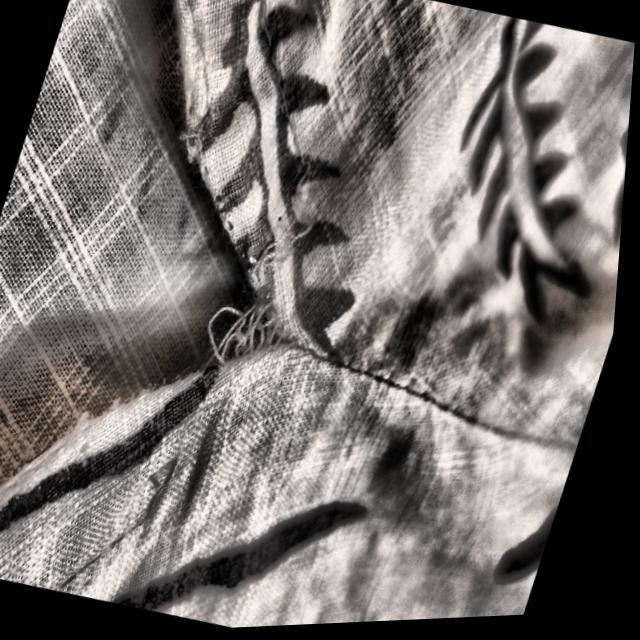Stitch: (158, 164, 351, 437)
